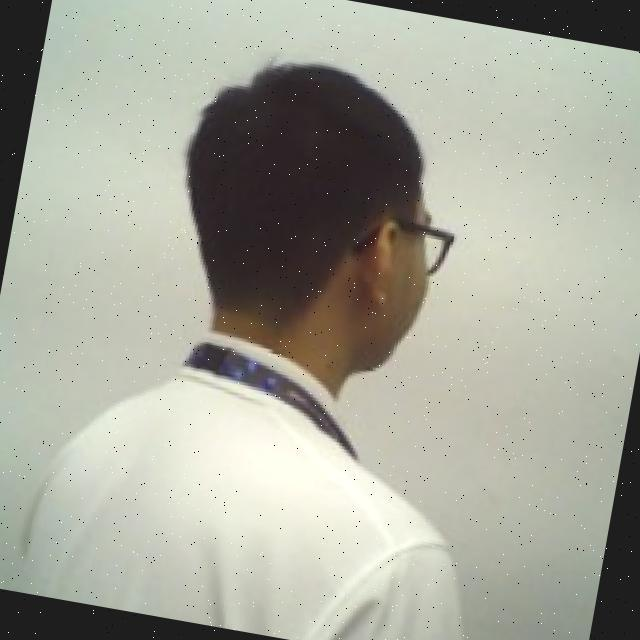no_gloves: (146, 33, 453, 340)
